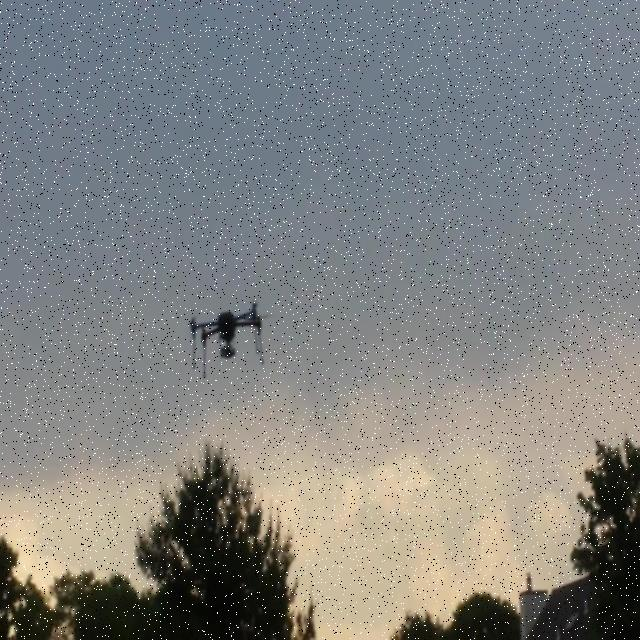UAV: (189, 300, 271, 378)
